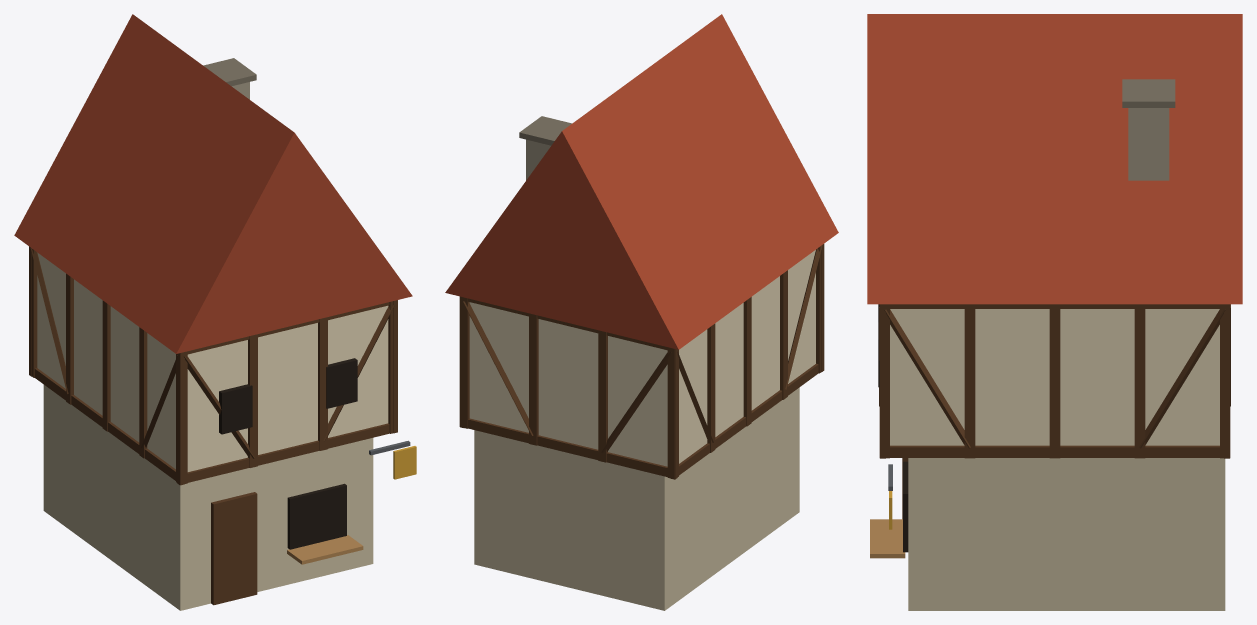
The model's file is settlement_townhouse.glb.
3 renders of one model, left to right at view 1: azimuth 30°, elevation 25°; view 2: azimuth 150°, elevation 25°; view 3: azimuth 270°, elevation 25°, orthographic. The views are drawn at different scales.
Visible parts, largest first — view 1: settlement_townhouse; view 2: settlement_townhouse; view 3: settlement_townhouse.
Part boxes in pixels (x1,y1,x2,y2): settlement_townhouse: [14, 14, 416, 610]; settlement_townhouse: [445, 14, 838, 610]; settlement_townhouse: [867, 14, 1242, 610].
Bounding box in the file's own units: 5.7 × 10.2 × 6.4.
